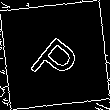P_NE: (24, 24, 86, 86)
